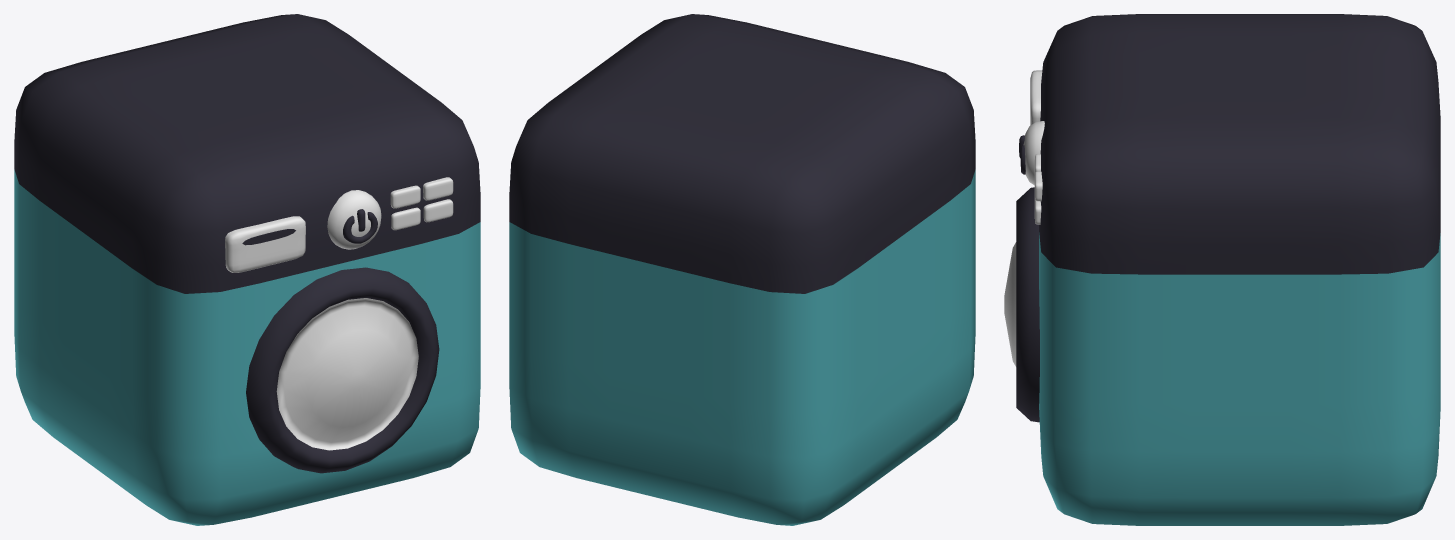
Rendered from Mesin Cuci.fbx.
The picture shows the model from 3 angles, left to right: view 1: azimuth 30°, elevation 25°; view 2: azimuth 150°, elevation 25°; view 3: azimuth 270°, elevation 25°; orthographic projection. The views are drawn at different scales.
Parts seen in each view (by area): view 1: Cube.001; view 2: Cube.001; view 3: Cube.001.
Part boxes in pixels (x1,y1,x2,y2): Cube.001: (14, 14, 480, 525); Cube.001: (509, 14, 975, 525); Cube.001: (1004, 14, 1440, 525).
Bounding box in the file's own units: 152 × 163 × 165.
